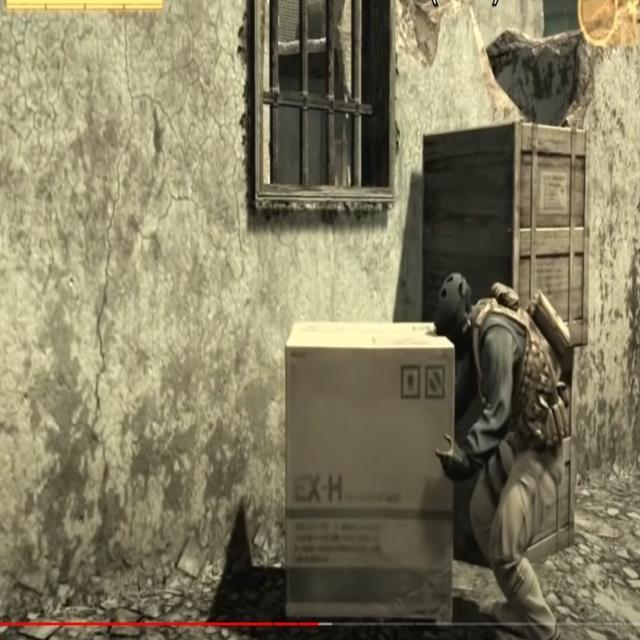snake-in-cardboard-boxes: (283, 314, 456, 626)
